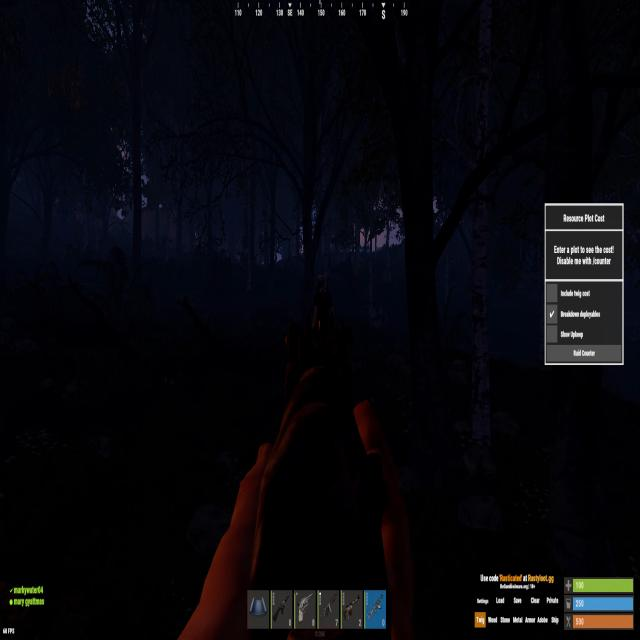Player: (311, 273, 335, 328)
